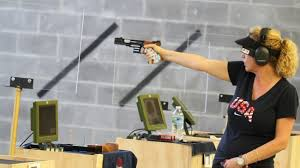gun: (112, 37, 161, 64)
